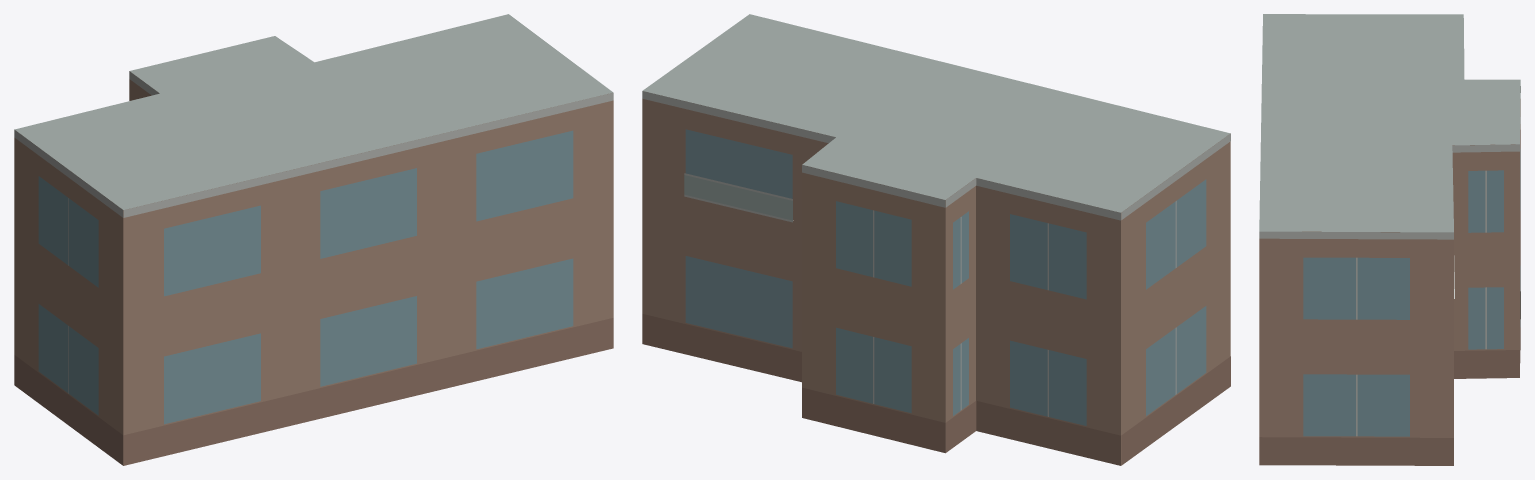
Rendered from survey-upis-32502428.glb.
3 views of the same model, side by side, from view 1: azimuth 30°, elevation 25°; view 2: azimuth 150°, elevation 25°; view 3: azimuth 270°, elevation 25° (orthographic). The views are drawn at different scales.
Visible parts, largest first — view 1: survey-upis-32502428.tmp; view 2: survey-upis-32502428.tmp; view 3: survey-upis-32502428.tmp.
Part boxes in pixels (x1,y1,x2,y2): survey-upis-32502428.tmp: [14, 14, 613, 465]; survey-upis-32502428.tmp: [642, 14, 1230, 465]; survey-upis-32502428.tmp: [1259, 14, 1520, 465].
Size of the model in its own units: 15.85 by 7.9 by 8.03.
